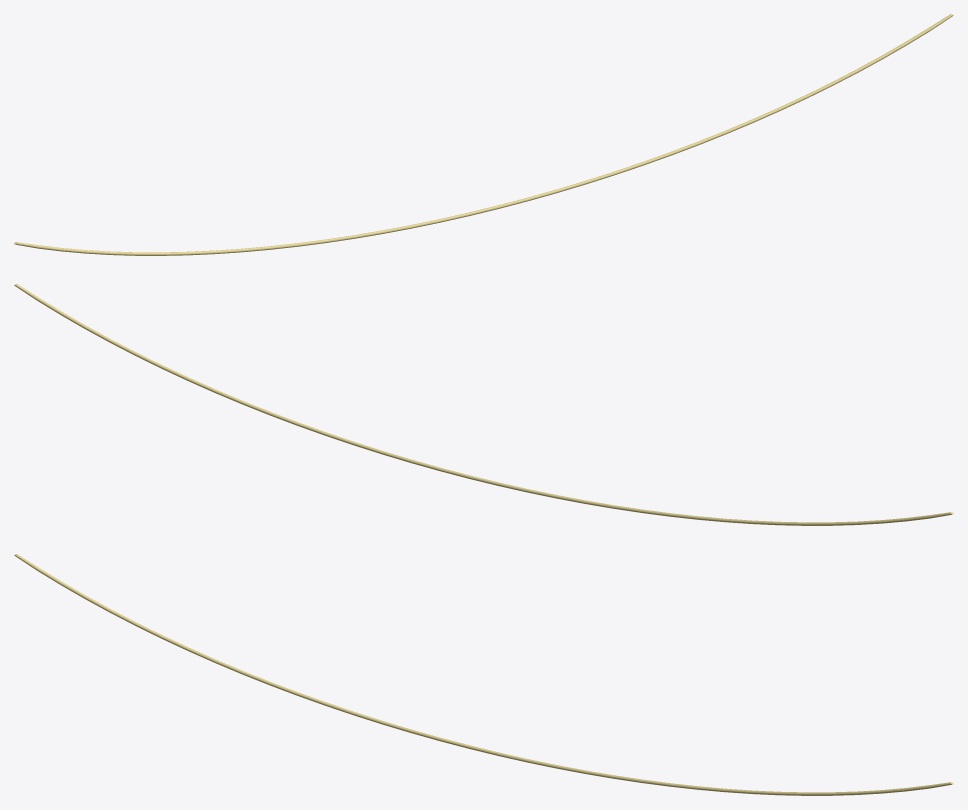
The model's file is ClothesLine.fbx.
3 renders of one model, top to bottom at view 1: azimuth 30°, elevation 25°; view 2: azimuth 150°, elevation 25°; view 3: azimuth 330°, elevation 25°, orthographic.
Visible parts, largest first — view 1: ClothesLine; view 2: ClothesLine; view 3: ClothesLine.
Boxes of the visible parts, bbox=[...] form: ClothesLine: bbox=[14, 14, 953, 255]; ClothesLine: bbox=[14, 284, 953, 525]; ClothesLine: bbox=[14, 554, 953, 795].
Size of the model in its own units: 1204 by 103 by 4.
